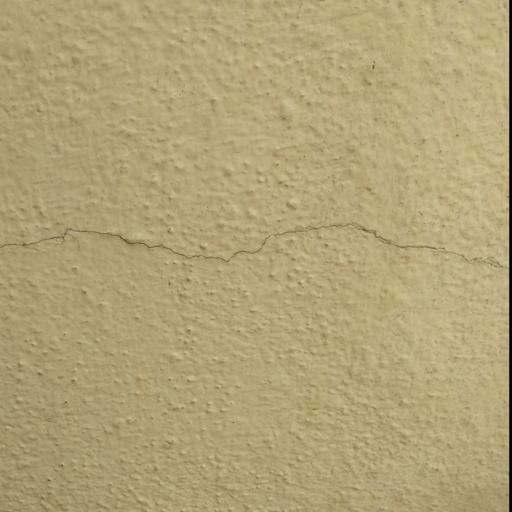minor_crack: (0, 176, 512, 280)
